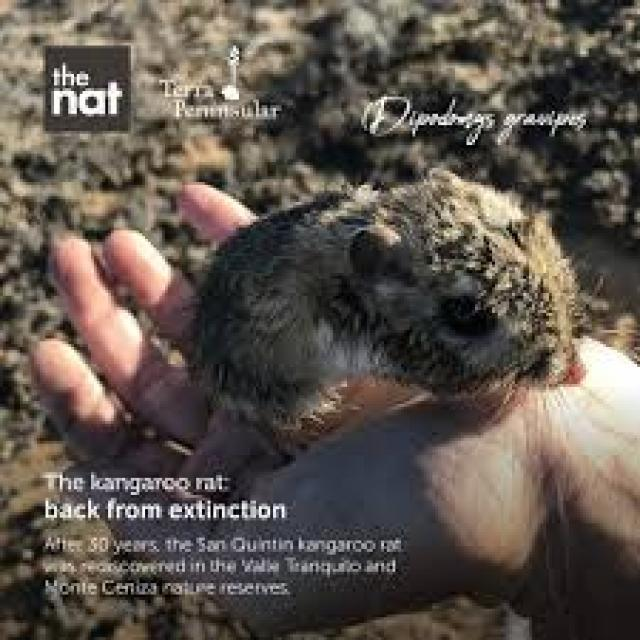Rat: (161, 141, 589, 427)
